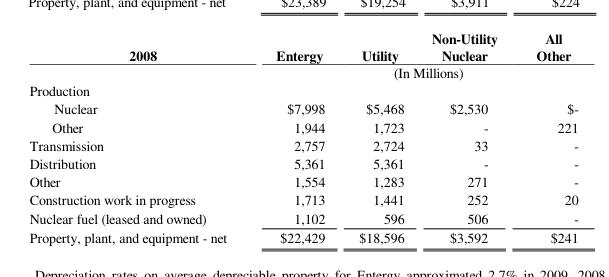table: (28, 28, 577, 245)
table column: (28, 28, 250, 245), (417, 28, 516, 245), (250, 28, 341, 245), (341, 28, 417, 245), (516, 28, 577, 245)
table column header: (28, 28, 577, 80)
table projected row header: (28, 80, 577, 98)
table row: (28, 28, 577, 63), (28, 98, 577, 117), (28, 189, 577, 208), (28, 226, 577, 245), (28, 80, 577, 98), (28, 117, 577, 135), (28, 135, 577, 153), (28, 153, 577, 171), (28, 171, 577, 189), (28, 208, 577, 226), (28, 63, 577, 80)
table spanning cell: (28, 28, 250, 80), (250, 63, 577, 80)
